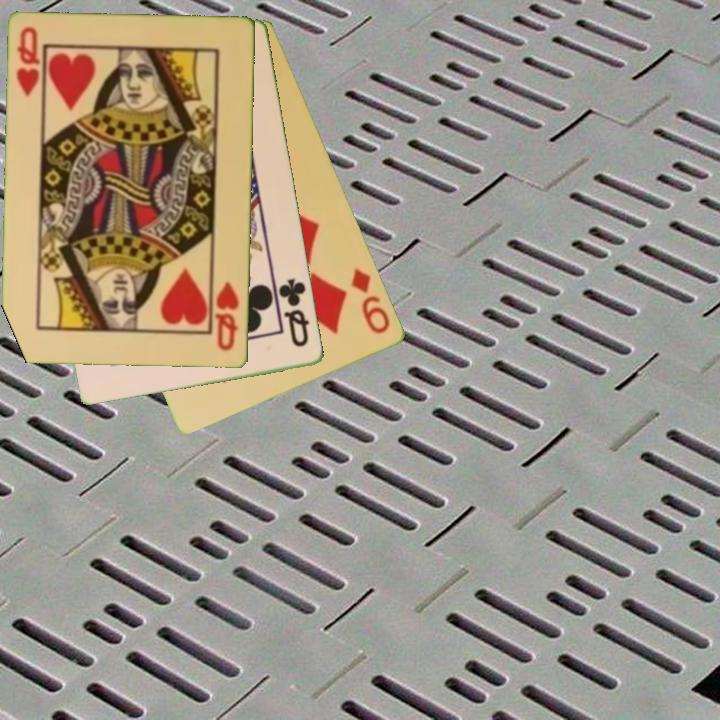9d: (348, 264, 394, 337)
Qc: (275, 275, 313, 350)
Qh: (211, 278, 242, 354), (13, 24, 43, 100)
